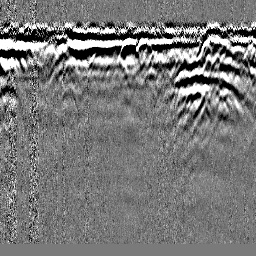cavity: (117, 37, 141, 63)
